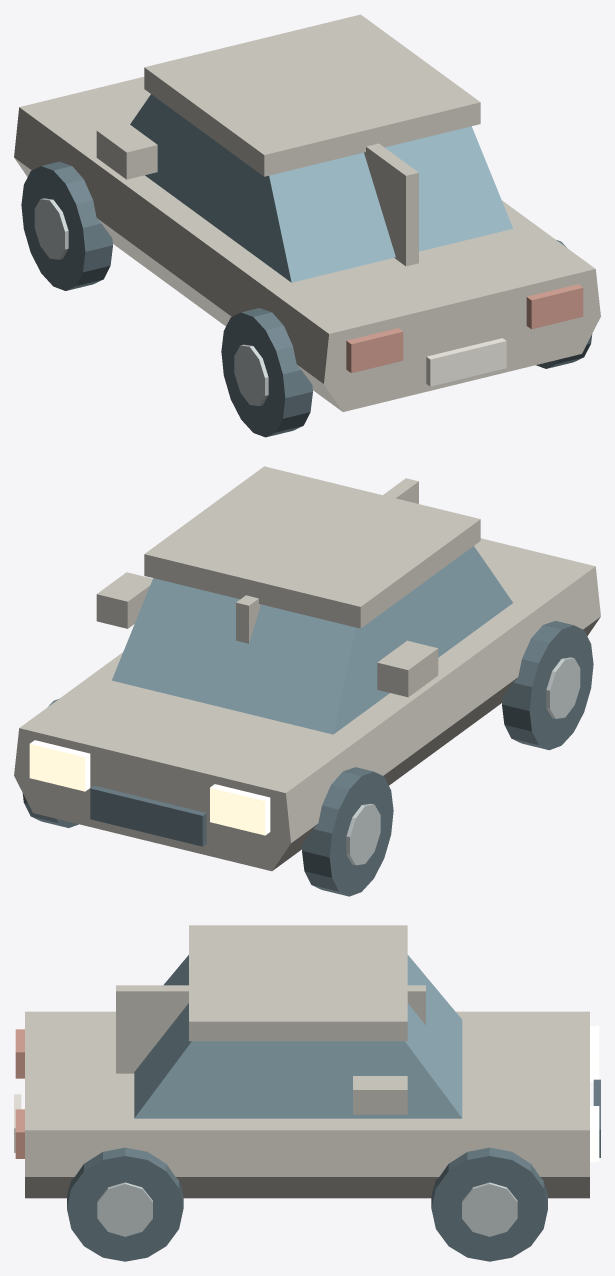
Rendered from remaster_car_2.glb.
3 renders of one model, top to bottom at view 1: azimuth 30°, elevation 25°; view 2: azimuth 150°, elevation 25°; view 3: azimuth 270°, elevation 25°, orthographic. The views are drawn at different scales.
Parts seen in each view (by area): view 1: remaster_car_2 cream, remaster_car_2 glass, remaster_car_2 dark, remaster_car_2 red, remaster_car_2 metal, remaster_car_2 white; view 2: remaster_car_2 cream, remaster_car_2 glass, remaster_car_2 dark, remaster_car_2 warm, remaster_car_2 metal; view 3: remaster_car_2 cream, remaster_car_2 glass, remaster_car_2 dark, remaster_car_2 metal, remaster_car_2 warm, remaster_car_2 red.
Part boxes in pixels (<box>): remaster_car_2 cream: <box>14,14,600,411</box>; remaster_car_2 glass: <box>130,94,512,282</box>; remaster_car_2 dark: <box>21,161,592,437</box>; remaster_car_2 red: <box>346,284,583,373</box>; remaster_car_2 metal: <box>34,198,268,405</box>; remaster_car_2 white: <box>426,338,506,386</box>; remaster_car_2 cream: <box>14,466,600,871</box>; remaster_car_2 glass: <box>112,546,512,734</box>; remaster_car_2 dark: <box>22,620,593,896</box>; remaster_car_2 warm: <box>29,740,270,835</box>; remaster_car_2 metal: <box>346,657,580,865</box>; remaster_car_2 cream: <box>25,925,589,1198</box>; remaster_car_2 glass: <box>134,955,462,1118</box>; remaster_car_2 dark: <box>67,1079,600,1261</box>; remaster_car_2 metal: <box>97,1182,517,1236</box>; remaster_car_2 warm: <box>590,1026,599,1161</box>; remaster_car_2 red: <box>15,1029,24,1158</box>.
Bounding box in the file's own units: 1.82 × 1.33 × 3.22.
